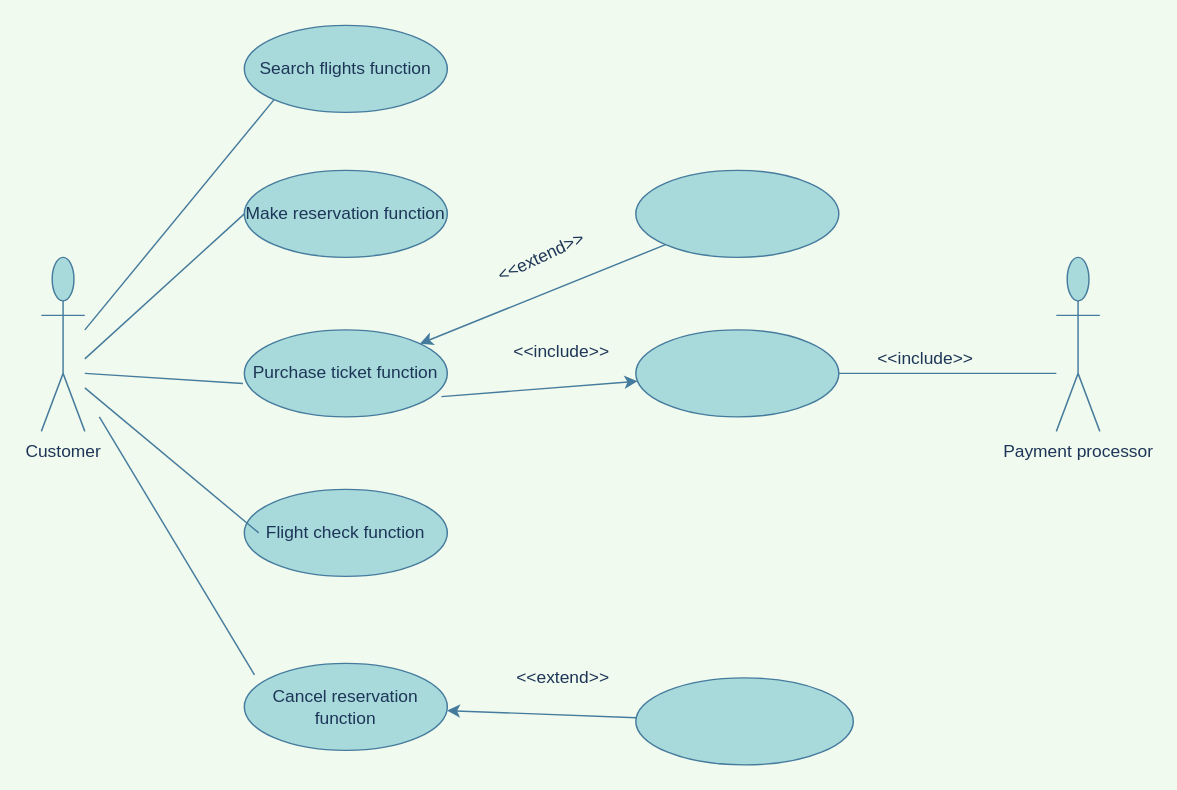
Some shapes in this 1177 by 790 pixel diagram are drawn without their labels. Each missing label, with the box of its shape:
Choose seat: (634, 169, 839, 257)
Reschedule flight: (634, 676, 853, 765)
Validate credit card: (634, 328, 839, 417)
